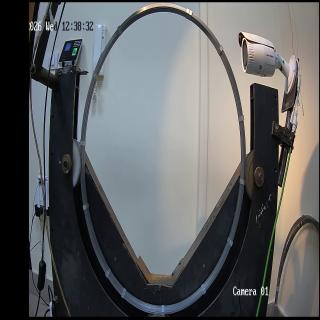clamp: (121, 287, 127, 300), (117, 24, 123, 37), (217, 45, 224, 56), (105, 267, 111, 279), (92, 71, 99, 81), (227, 236, 233, 247), (185, 7, 190, 20), (188, 9, 193, 22), (238, 114, 245, 123), (82, 202, 89, 211), (201, 283, 206, 295), (161, 305, 165, 316), (239, 178, 245, 185), (79, 140, 86, 146)
